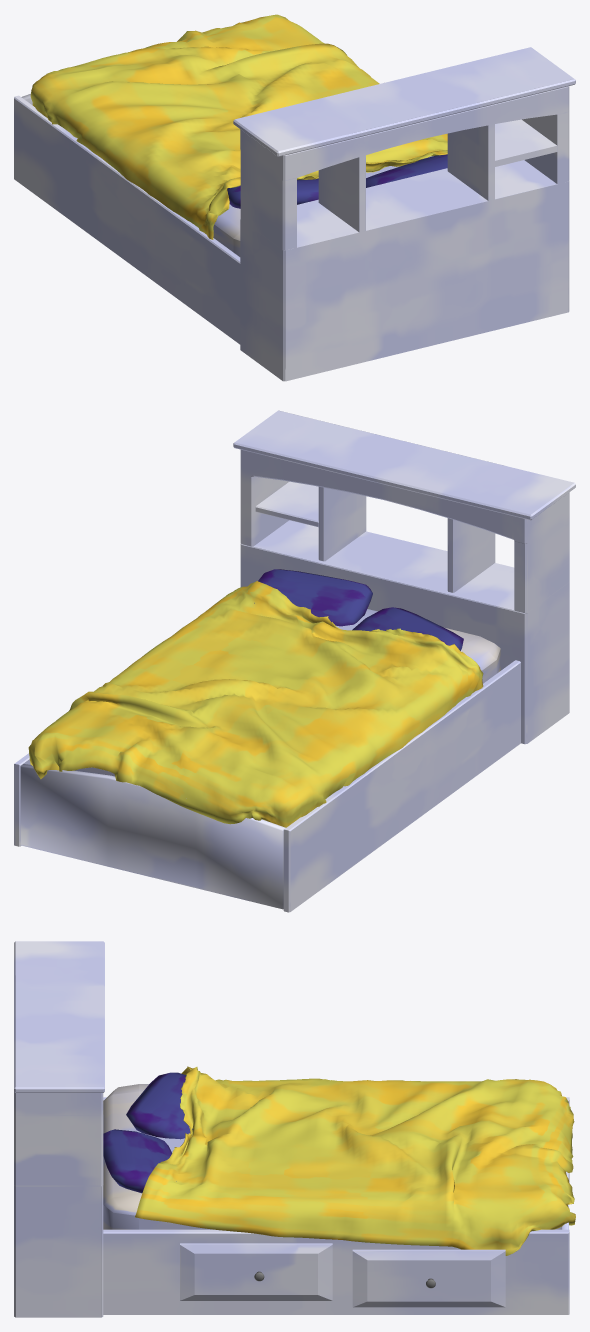
The model's file is adult_bed_messy.fbx.
3 renders of one model, top to bottom at view 1: azimuth 30°, elevation 25°; view 2: azimuth 150°, elevation 25°; view 3: azimuth 270°, elevation 25°, orthographic.
Visible parts, largest first — view 1: Frame, Blanket, Mattress, Pillow.001, Pillow; view 2: Frame, Blanket, Pillow.001, Pillow, Mattress; view 3: Frame, Blanket, Mattress, Pillow.001, Pillow.
Boxes of the visible parts, x1,y1,x2,y2 form: Frame: (14, 47, 575, 381); Blanket: (30, 14, 447, 239); Mattress: (66, 130, 433, 256); Pillow.001: (366, 154, 447, 187); Pillow: (227, 178, 318, 208); Frame: (14, 410, 575, 912); Blanket: (28, 581, 483, 827); Pillow.001: (254, 569, 372, 626); Pillow: (352, 607, 463, 650); Mattress: (75, 609, 500, 796); Frame: (14, 941, 569, 1317); Blanket: (135, 1066, 575, 1255); Mattress: (103, 1084, 561, 1229); Pillow.001: (103, 1129, 176, 1193); Pillow: (126, 1072, 192, 1139).
Size of the model in its own units: 9.52 by 6.72 by 14.71.
